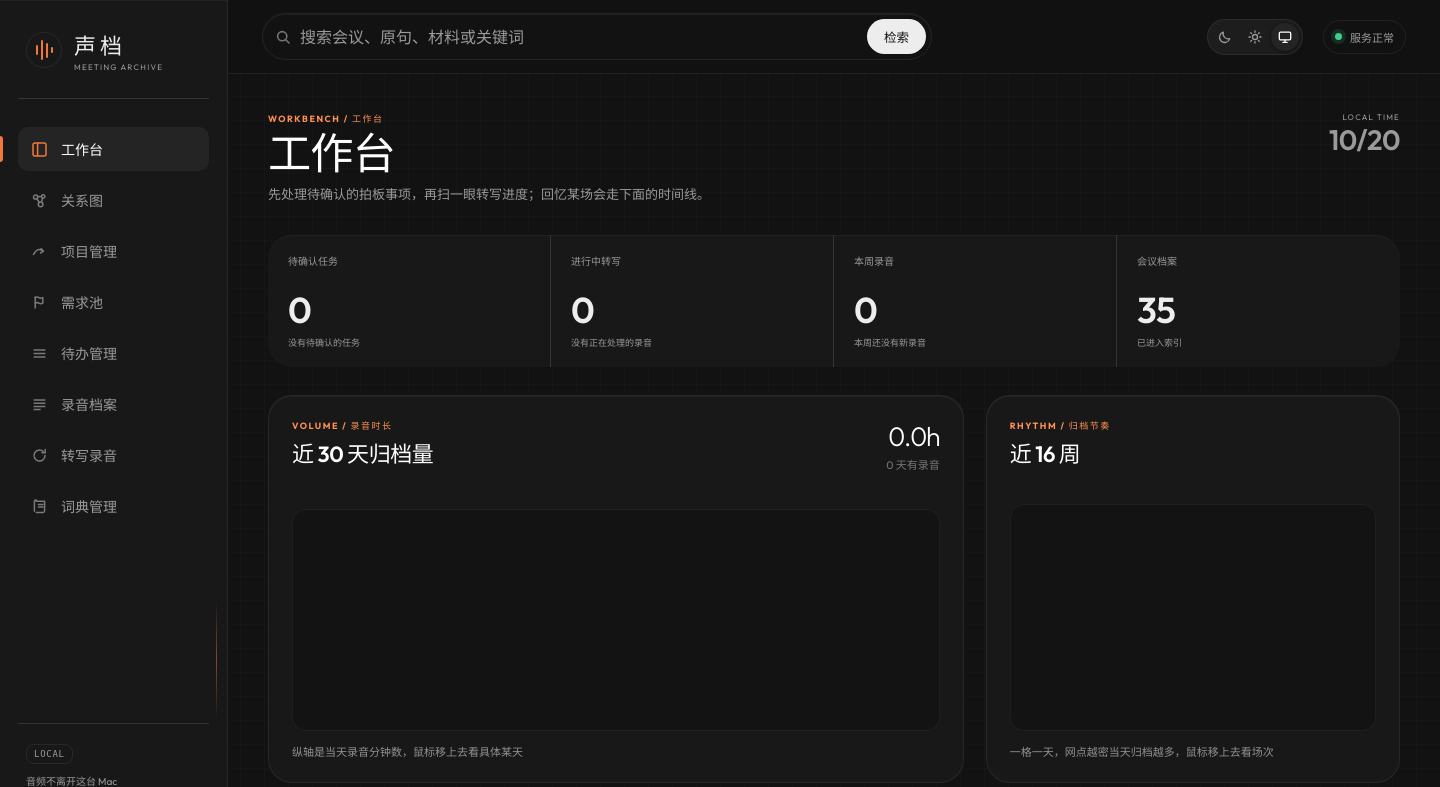
Test: App refresh and navigation safety › searches all projects by default, narrows the scope on the results page and opens minutes hits on the minutes tab
Expected: the text "服务正常" is shown, x1=1323 y1=20 x2=1406 y2=54
Step 1. Type "数理协会" into the field named "全局检索" → (576, 36), box x1=290 y1=20 x2=861 y2=54
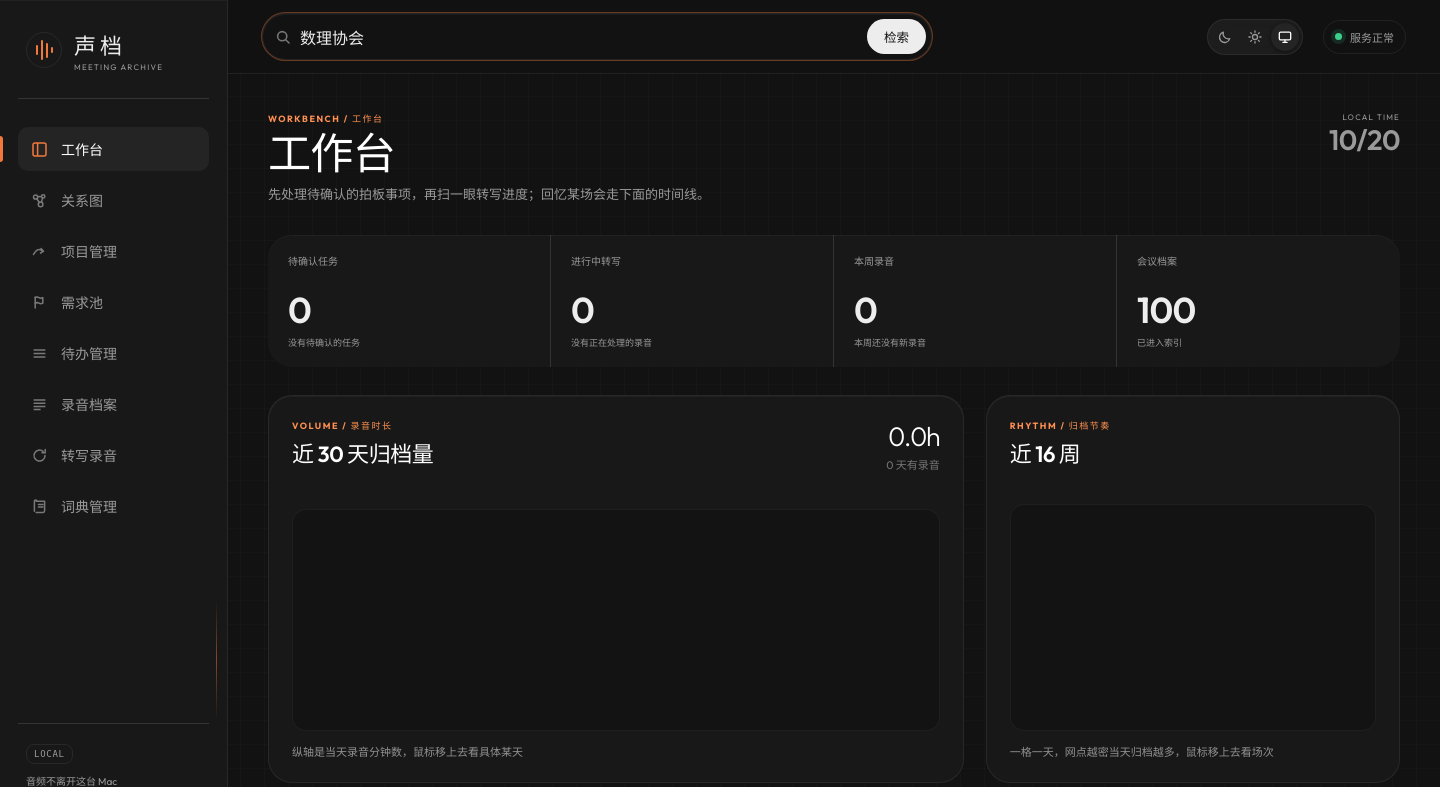
Step 2. Click the button "检索" → (896, 36), box x1=867 y1=19 x2=926 y2=54
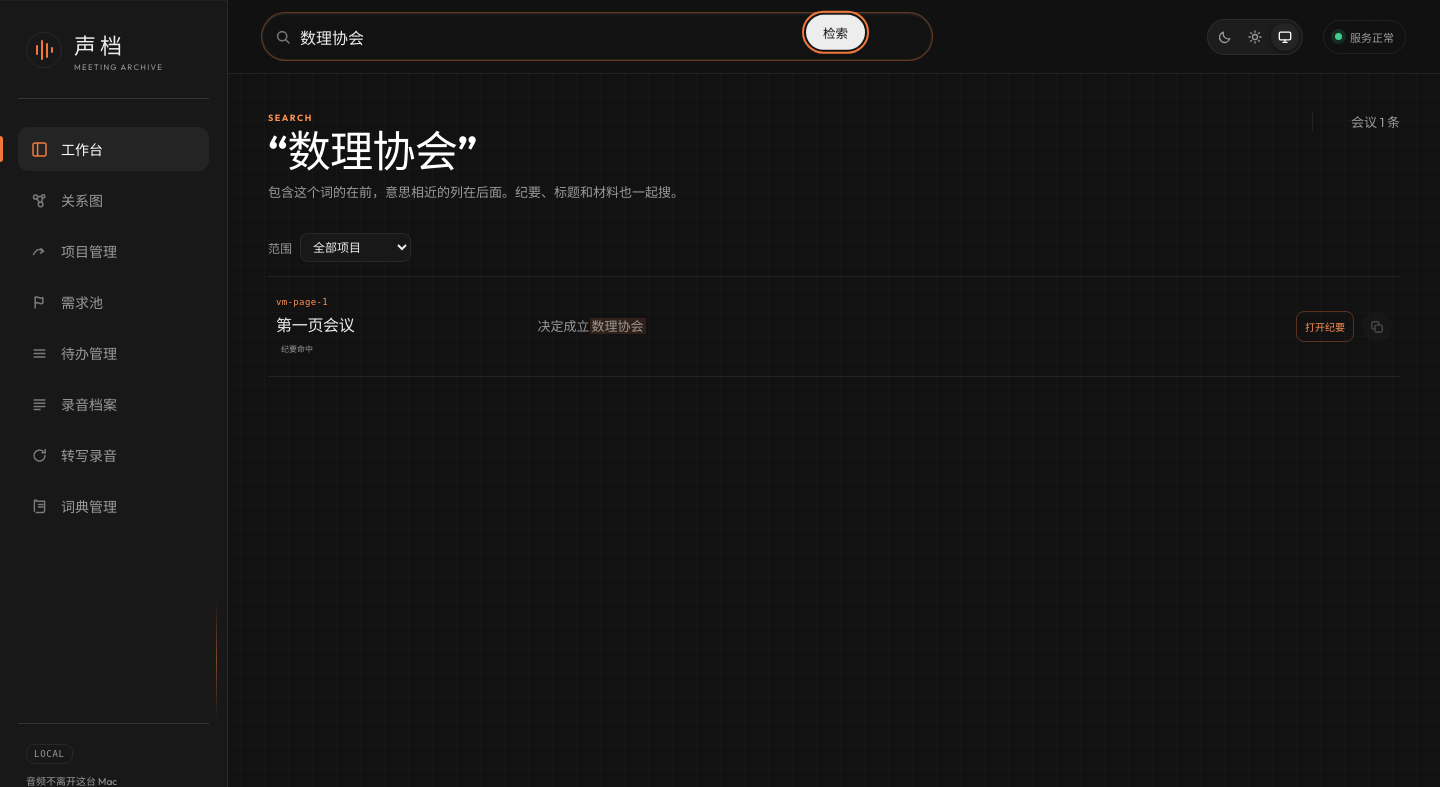
Expected: the button "原句" is not shown
Step 3. Select "项目乙" in the dropdown named "搜索范围" → (356, 248), box x1=300 y1=233 x2=411 y2=262
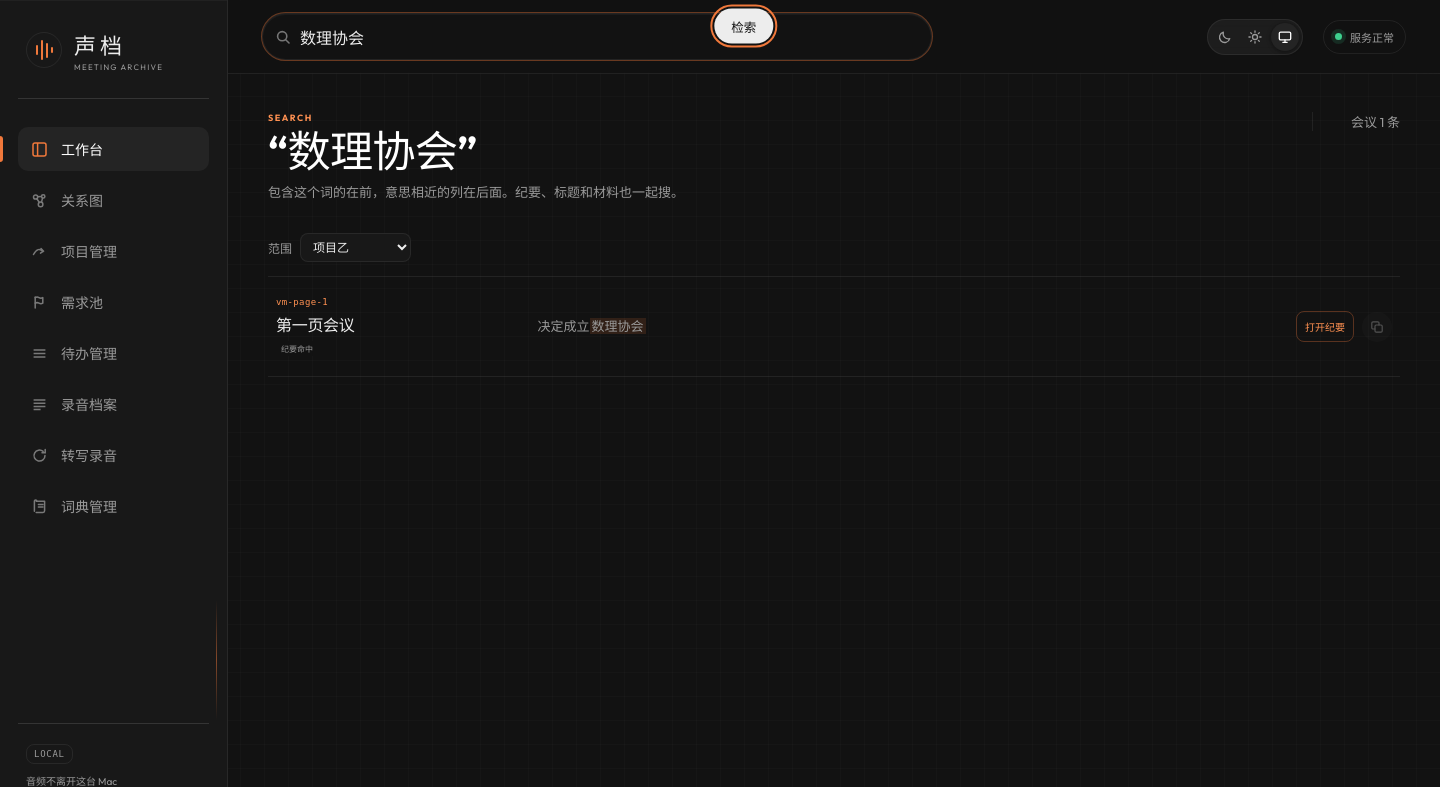
Step 4. Click the button "打开纪要" → (1325, 327), box x1=1296 y1=311 x2=1354 y2=342
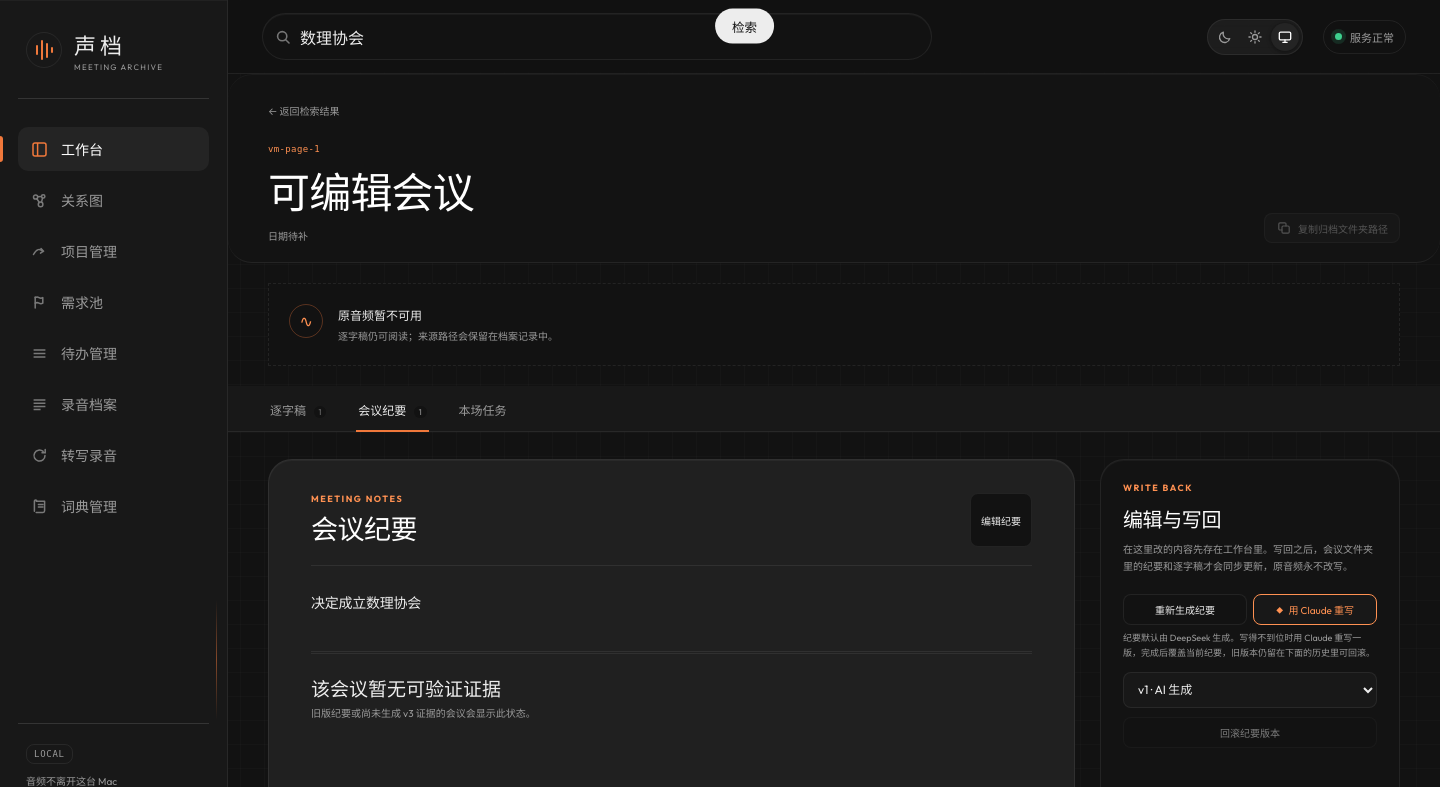
Expected: the heading "可编辑会议" is shown, x1=268 y1=159 x2=474 y2=220
